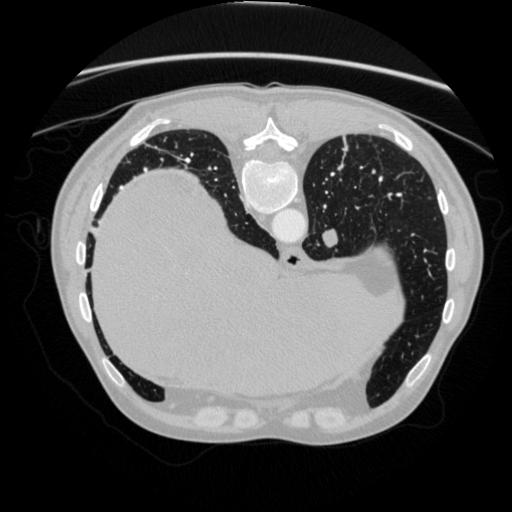nodule: (317, 228, 339, 250)
